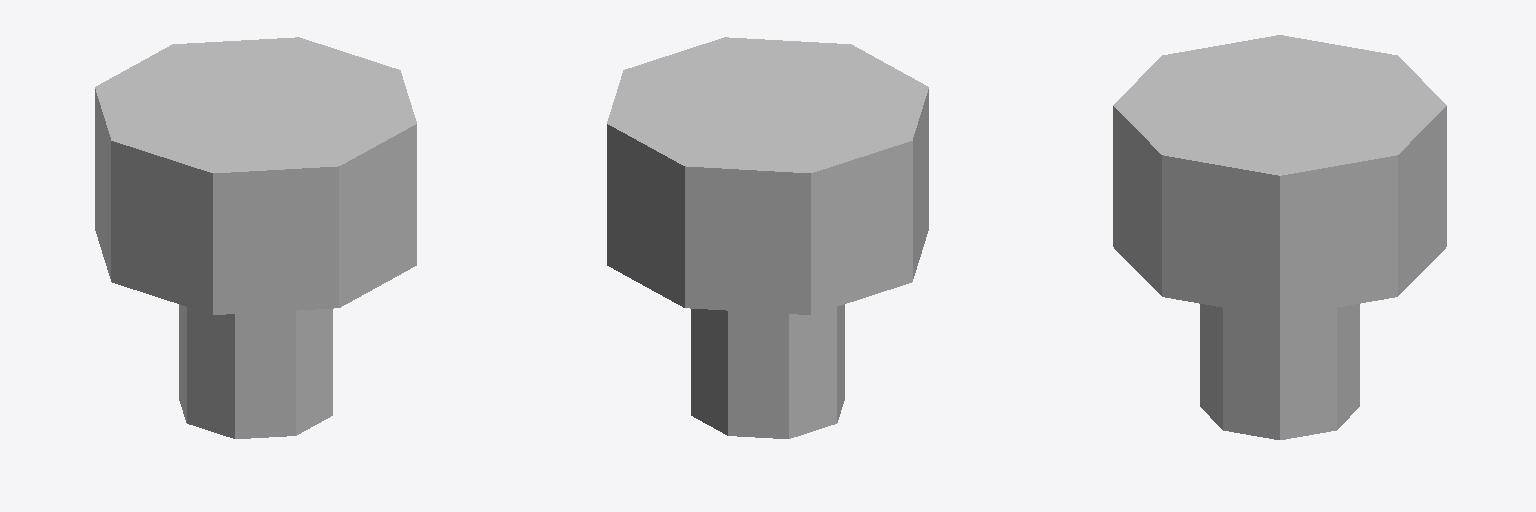
File: SeatSpinner.obj
The picture shows the model from 3 angles: view 1: azimuth 30°, elevation 25°; view 2: azimuth 150°, elevation 25°; view 3: azimuth 270°, elevation 25°; orthographic projection.
Visible parts, largest first — view 1: SeatSpinner1 FighterChassis; view 2: SeatSpinner1 FighterChassis; view 3: SeatSpinner1 FighterChassis.
Part boxes in pixels (x1,y1,x2,y2): SeatSpinner1 FighterChassis: (95, 37, 416, 438); SeatSpinner1 FighterChassis: (607, 37, 928, 438); SeatSpinner1 FighterChassis: (1113, 35, 1446, 439).
Bounding box in the file's own units: 15.05 × 14.99 × 15.05.